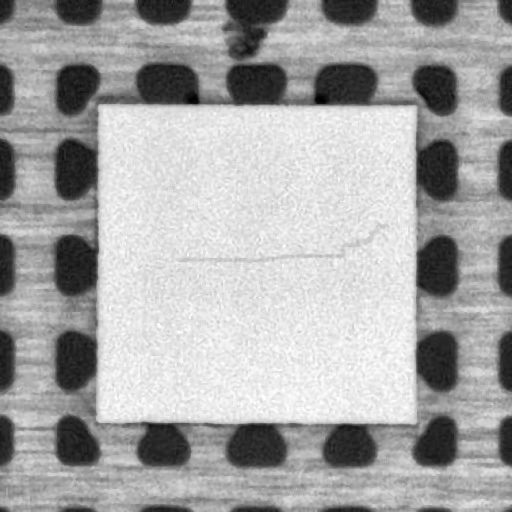DIE_CRACK: (173, 224, 389, 265)
